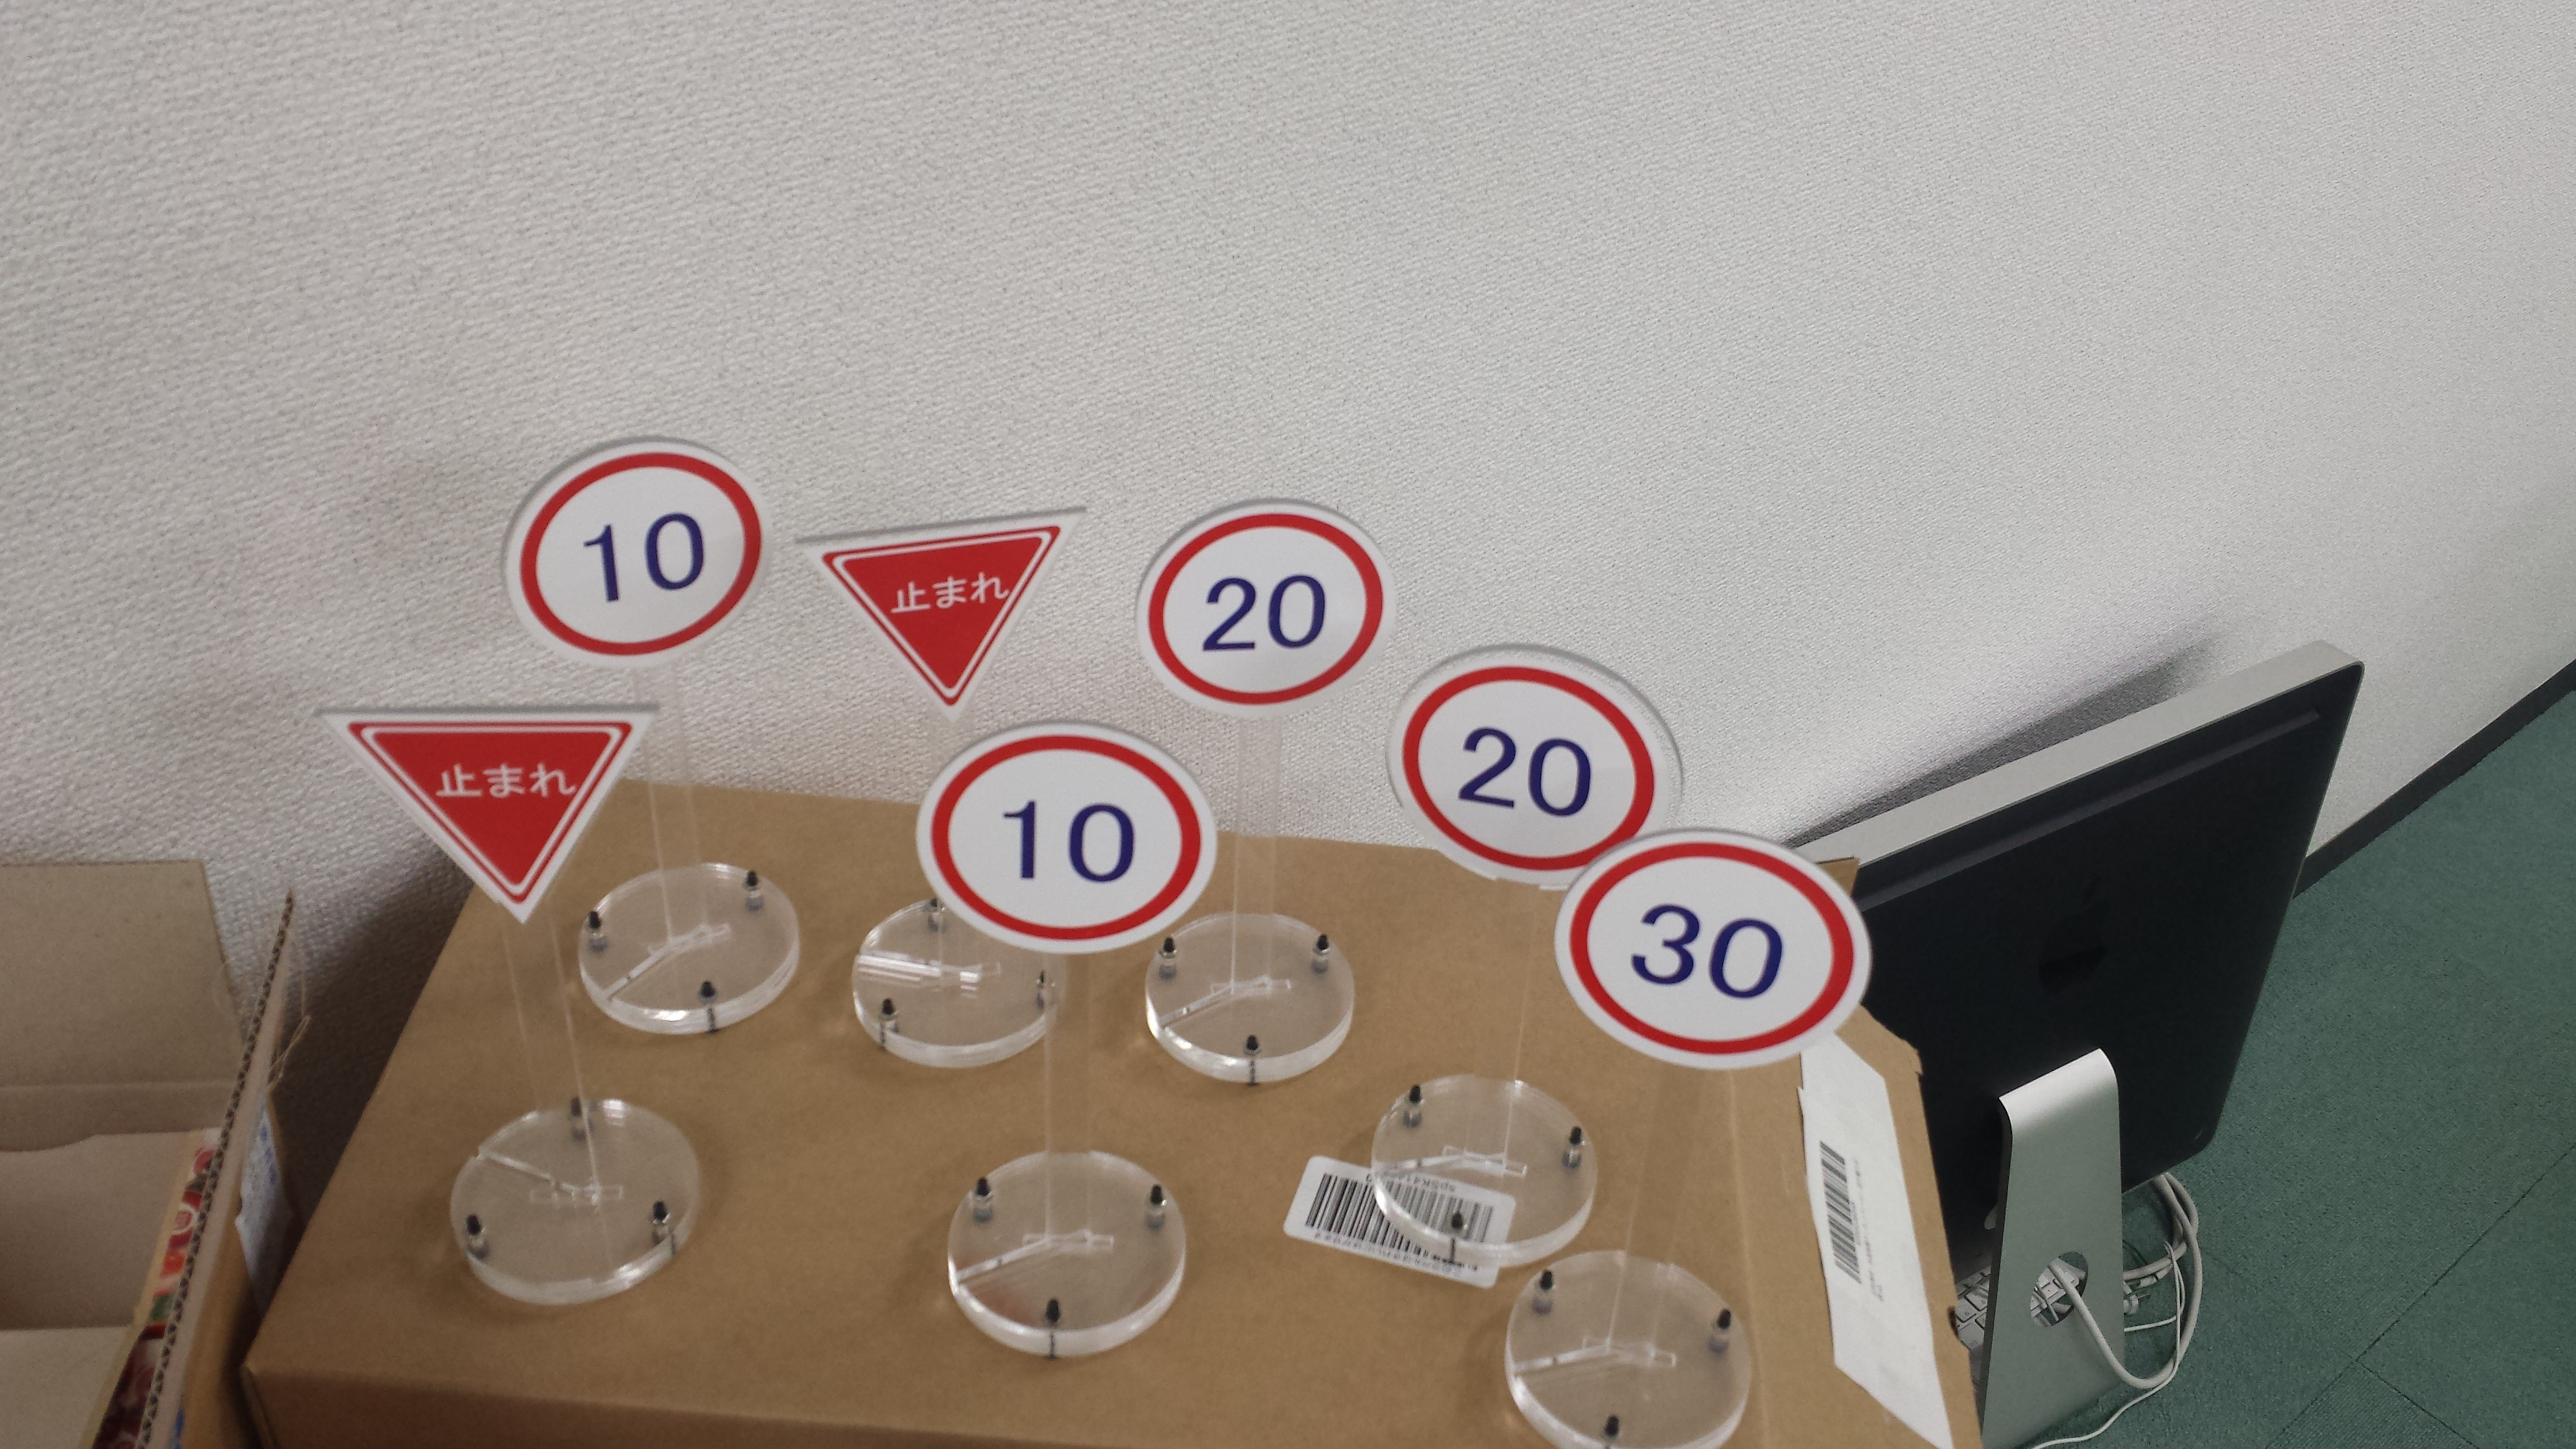speed_10: (915, 725, 1217, 955), (504, 441, 775, 665)
speed_20: (1387, 649, 1681, 888), (1136, 504, 1396, 722)
speed_30: (1557, 832, 1881, 1070)
stop: (317, 708, 653, 922), (800, 508, 1097, 717)
